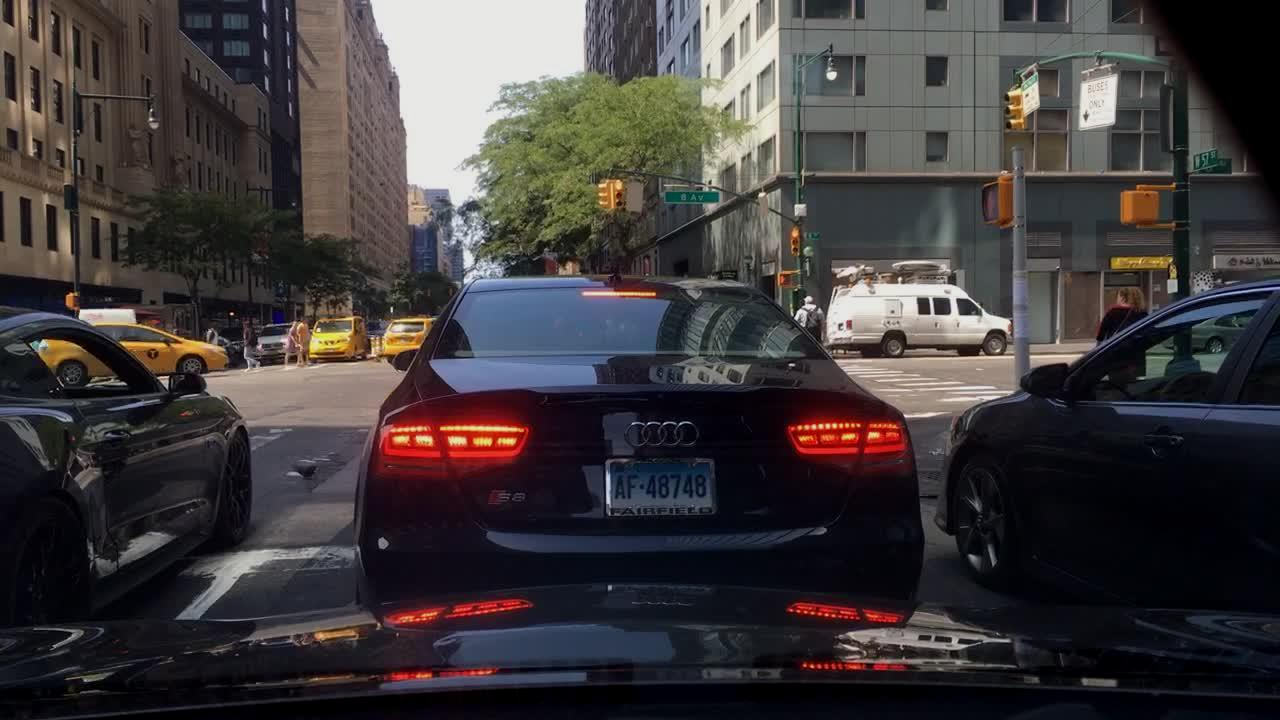Audi: (614, 411, 706, 459)
